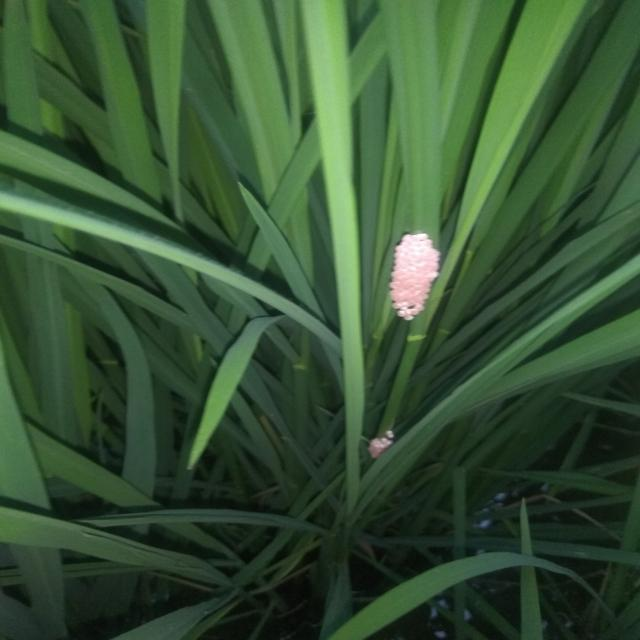Leaf blast: (388, 223, 443, 332), (364, 424, 402, 465)
